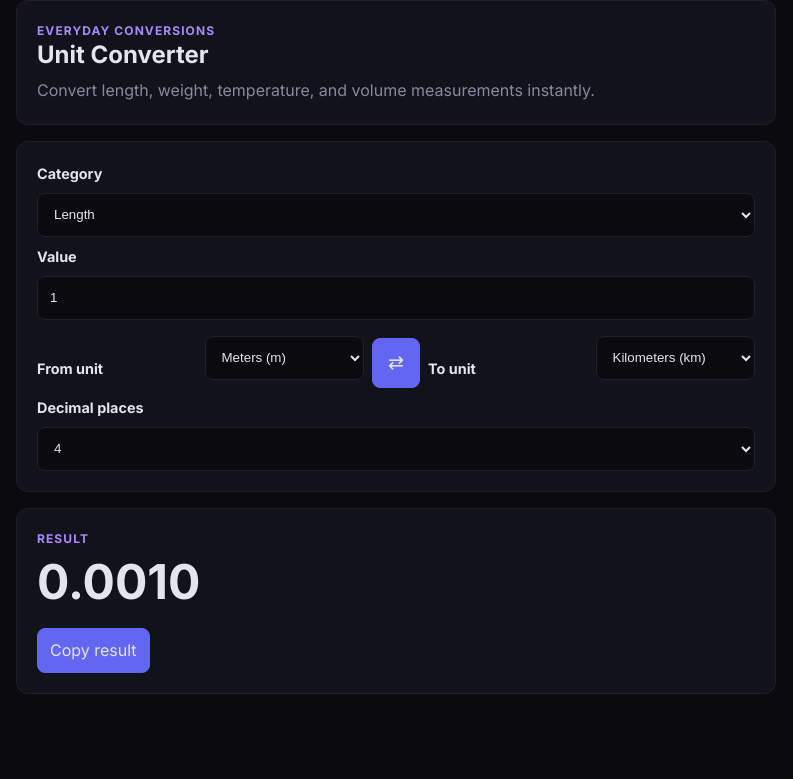
Test case: UnitConverterTool › shows an accessible alert for invalid input
Replace the text in the field named "Value to convert" with "abc" at [396, 298], box x1=37 y1=276 x2=755 y2=320
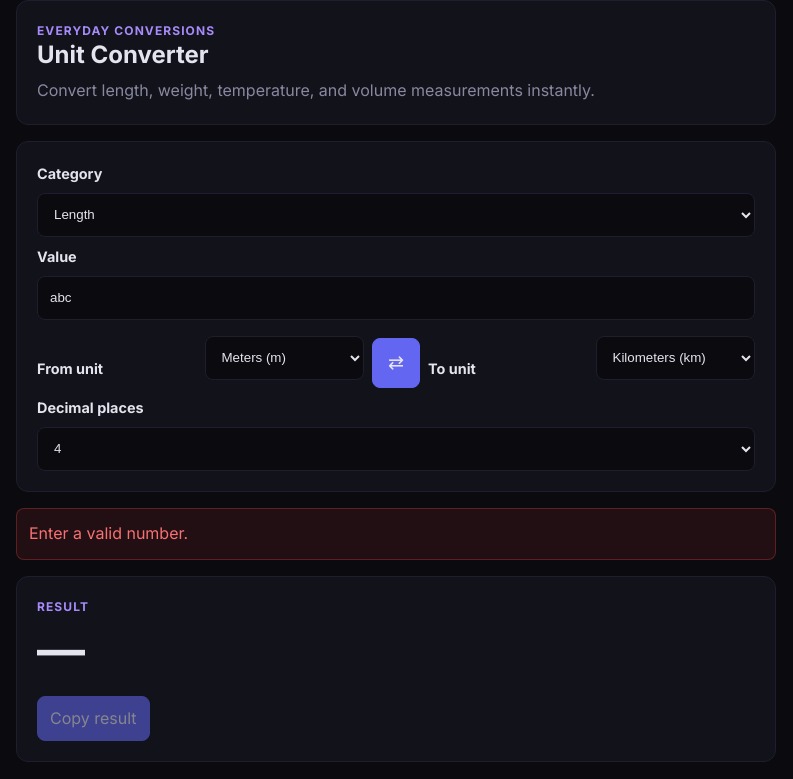
Check: the message reads "Enter a valid number.", box x1=29 y1=523 x2=188 y2=543
